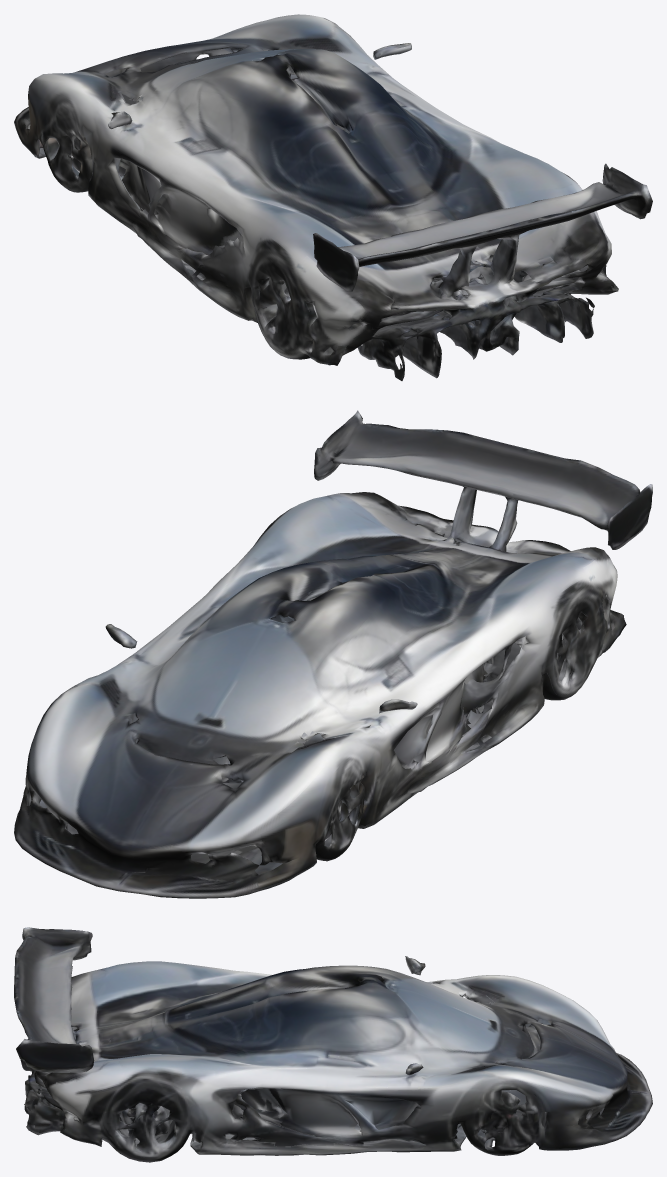
File: Velocity_Phantom_hyp_1010095034.glb
3 renders of one model, top to bottom at view 1: azimuth 30°, elevation 25°; view 2: azimuth 150°, elevation 25°; view 3: azimuth 270°, elevation 25°, orthographic. The views are drawn at different scales.
Bounding box in the file's own units: 0.8748 × 0.4464 × 1.99.
Materials: 1 (1 with a texture image).
